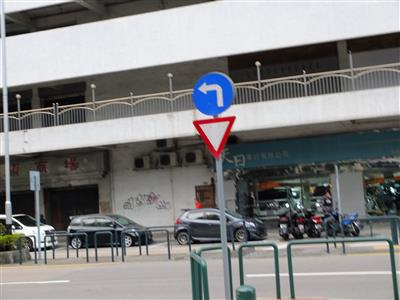leftTurnOnly: (191, 70, 238, 116)
yield: (191, 114, 238, 161)
